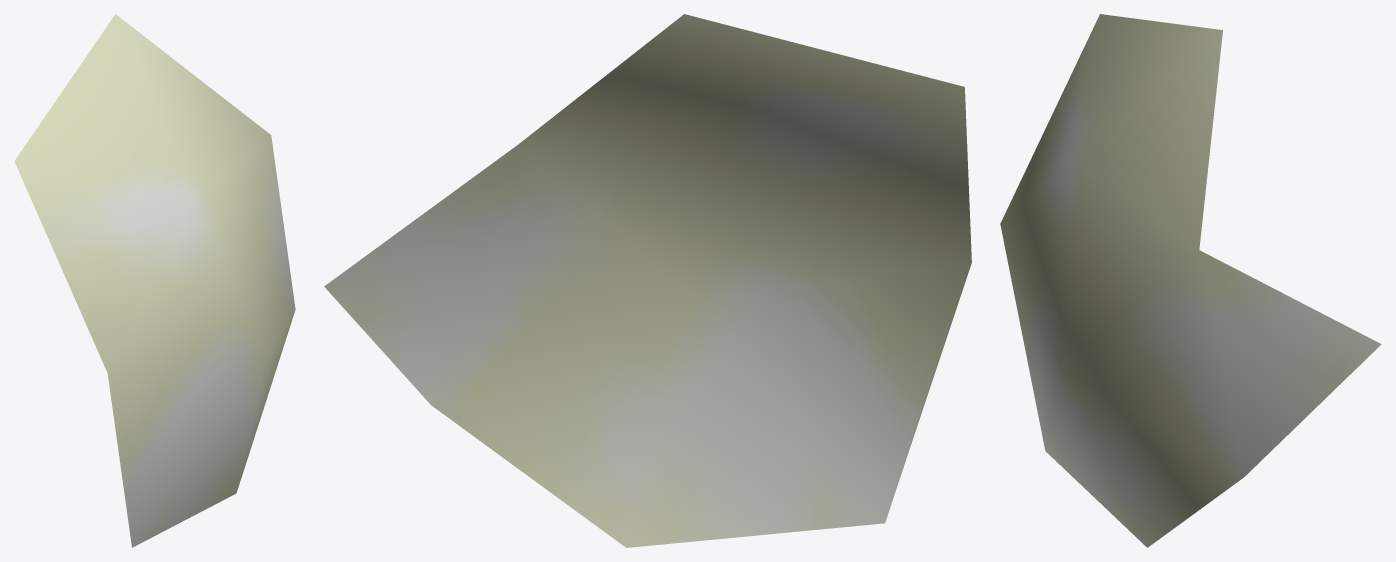
The model's file is egg_debris_small_2.glb.
3 views of the same model, side by side, from view 1: azimuth 30°, elevation 25°; view 2: azimuth 150°, elevation 25°; view 3: azimuth 270°, elevation 25° (orthographic). The views are drawn at different scales.
Visible parts, largest first — view 1: SpiderSpawner2-con.060; view 2: SpiderSpawner2-con.060; view 3: SpiderSpawner2-con.060.
Boxes of the visible parts, <box> form: SpiderSpawner2-con.060: <box>14,14,295,547</box>; SpiderSpawner2-con.060: <box>324,14,971,547</box>; SpiderSpawner2-con.060: <box>1000,14,1381,547</box>.
Bounding box in the file's own units: 0.239 × 0.2917 × 0.2115.
Materials: 1 (1 with a texture image).
